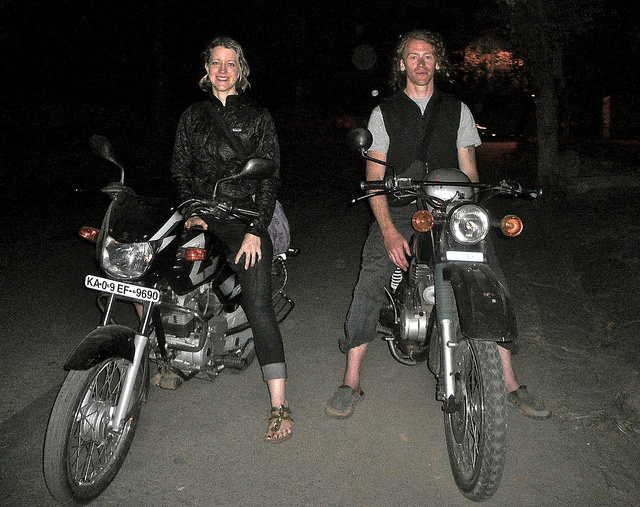non-vehicle: (43, 133, 297, 499), (351, 130, 542, 501)
